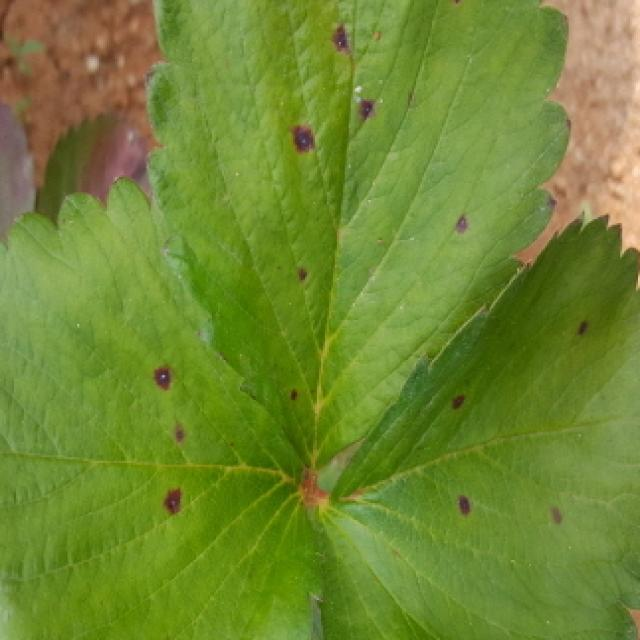Leaf Spot: (143, 0, 574, 486), (0, 176, 320, 640), (317, 210, 640, 640)
